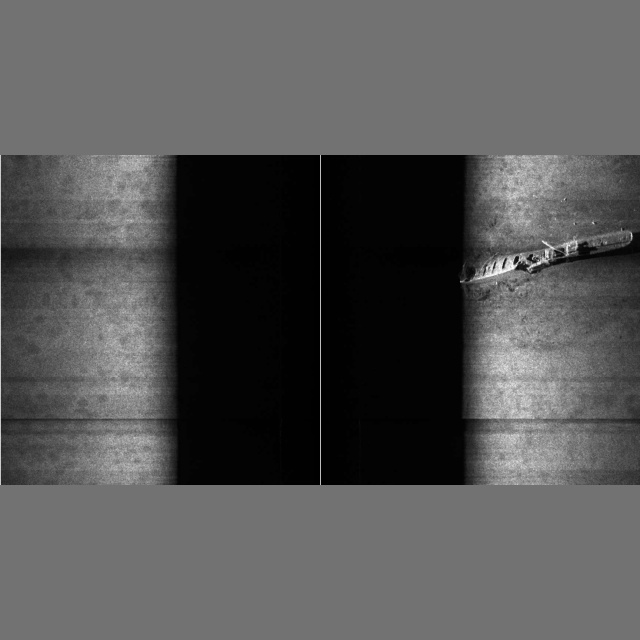Shipwreck: (457, 197, 634, 284)
